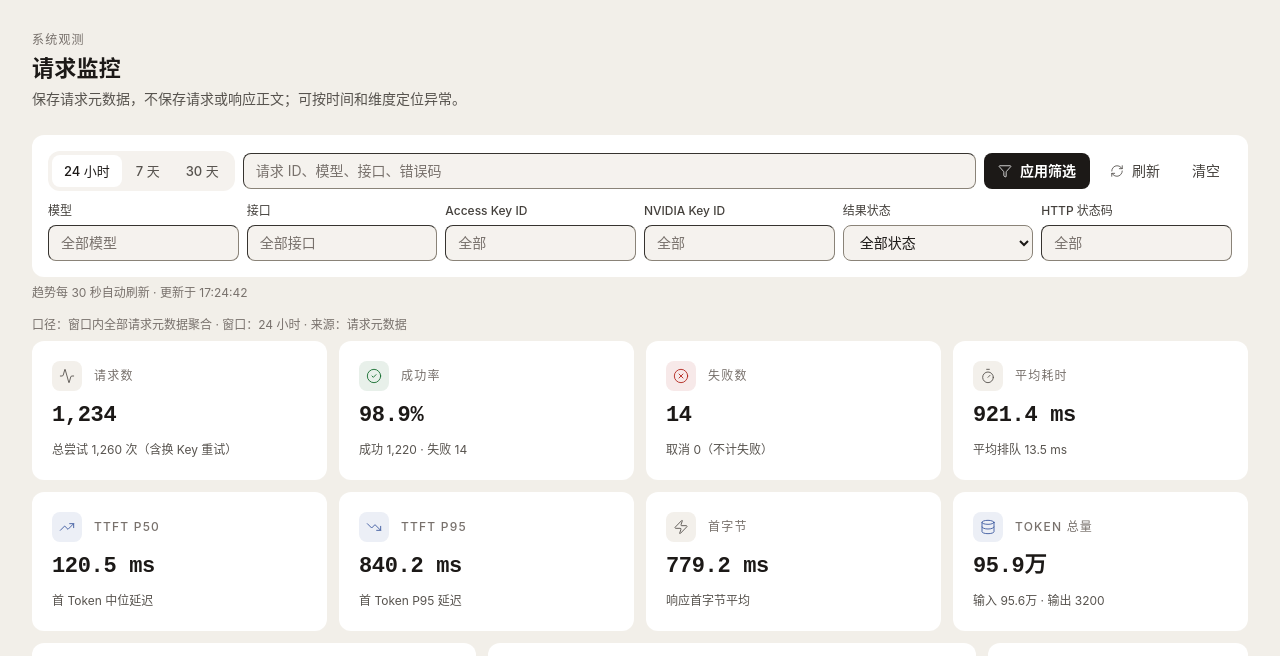
Test: StatisticsView monitoring dashboard › rejects invalid numeric filters inline instead of silently dropping them
This screenshot has width=1280, height=656.
Select "失败" in the dropdown with test id "monitoring-status": (938, 243) [843,225,1033,261]
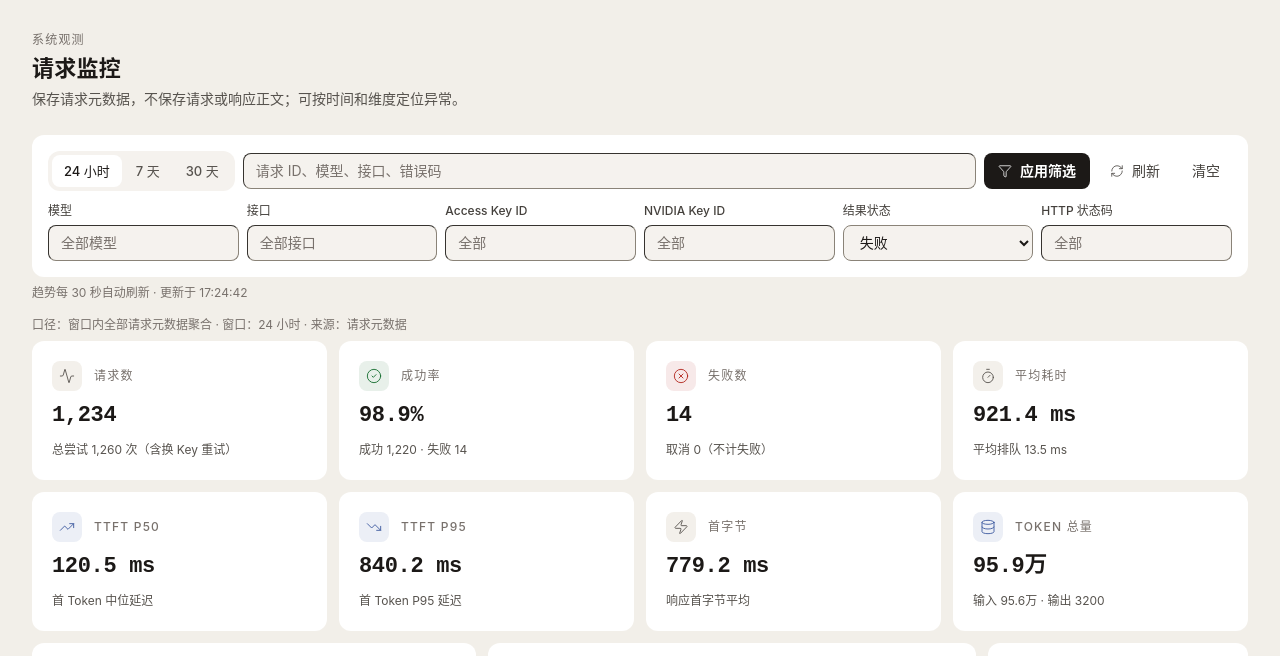
In the number field with test id "monitoring-status-code": (1137, 243) [1041,225,1232,261], type "-5"
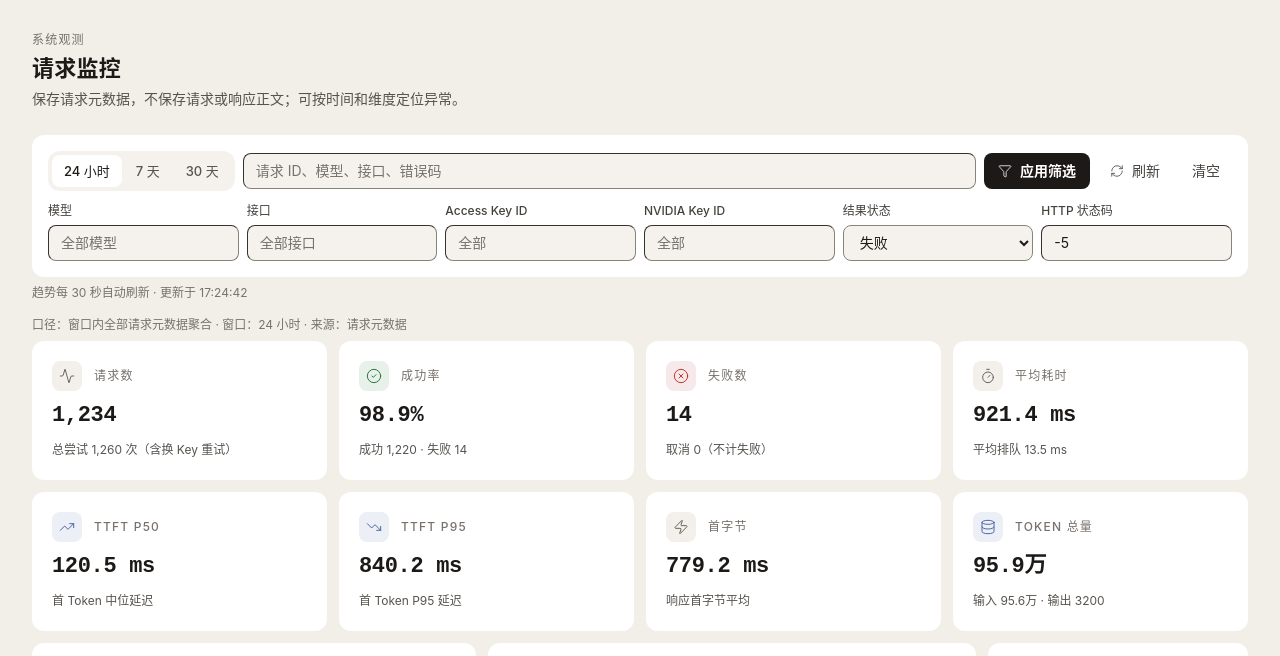
Submit the form with test id "monitoring-filter-panel", box [32,135,1248,277]
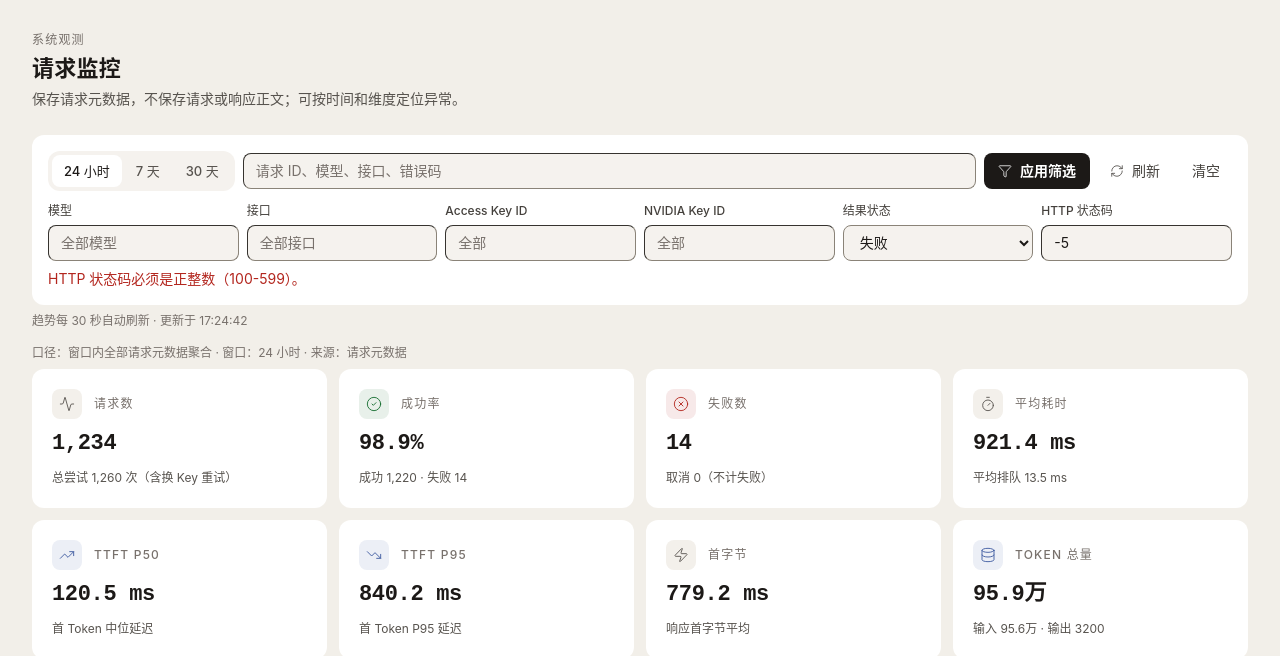
expect the message with test id "monitoring-filter-error" shows "状态码必须是正整数": met, box [48,270,306,287]
